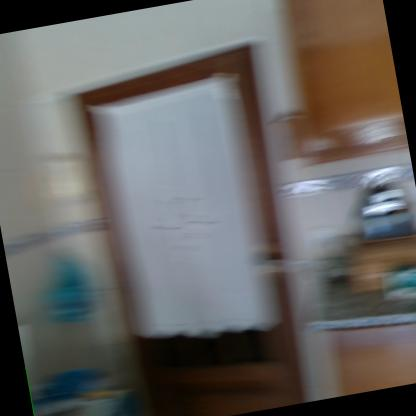closed: (46, 23, 335, 415)
